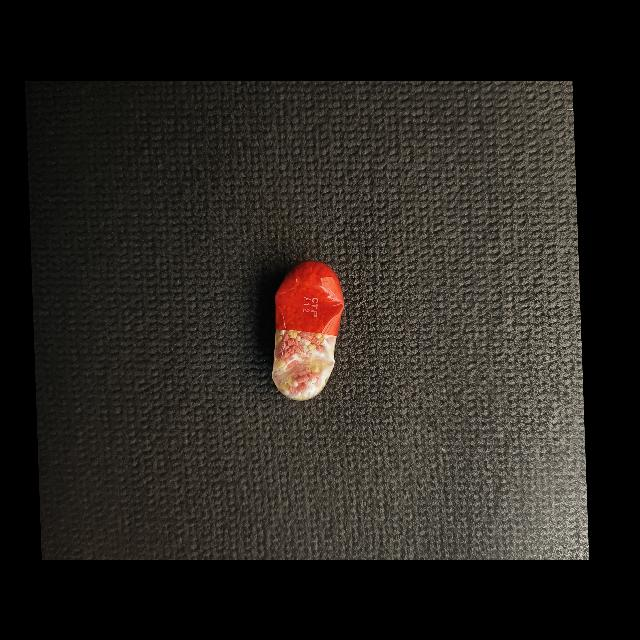Defective Capsule: (272, 260, 344, 400)
